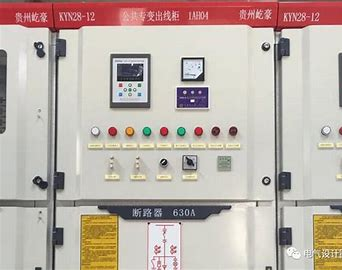pointer: (181, 57, 205, 79)
